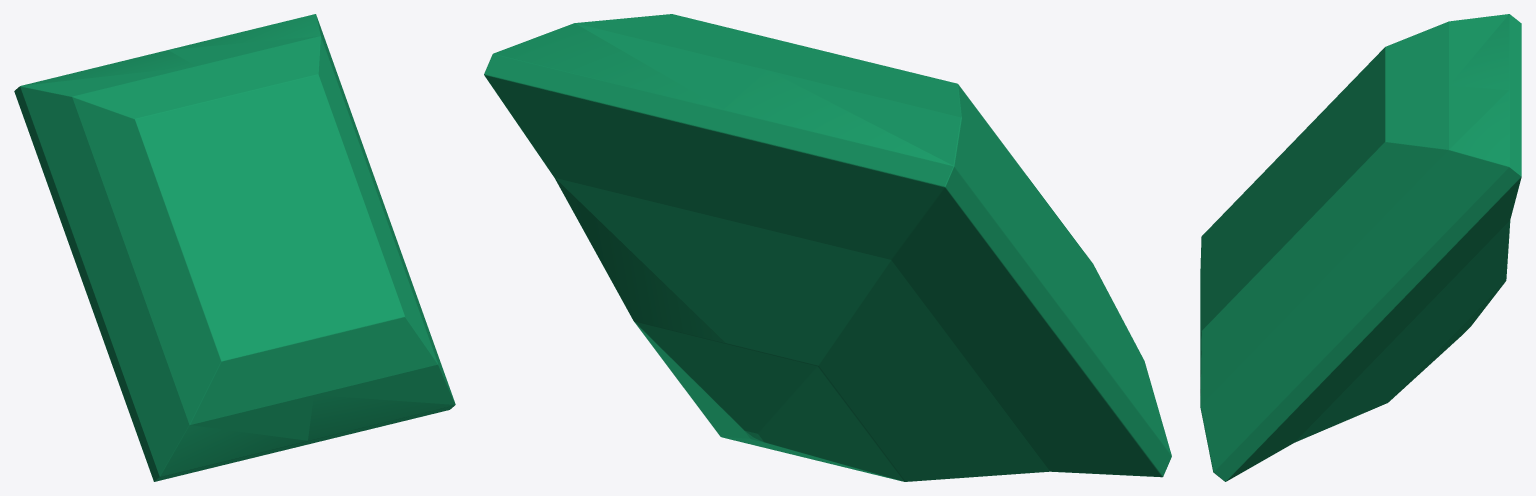
The model's file is emerald.glb.
3 renders of one model, left to right at view 1: azimuth 30°, elevation 25°; view 2: azimuth 150°, elevation 25°; view 3: azimuth 270°, elevation 25°, orthographic. The views are drawn at different scales.
Visible parts, largest first — view 1: emerald.001; view 2: emerald.001; view 3: emerald.001.
Part boxes in pixels (x1=…): emerald.001: x1=14, y1=14, x2=455, y2=481; emerald.001: x1=484, y1=14, x2=1171, y2=481; emerald.001: x1=1200, y1=14, x2=1521, y2=481.
Bounding box in the file's own units: 1.84 × 1.8 × 1.64.
